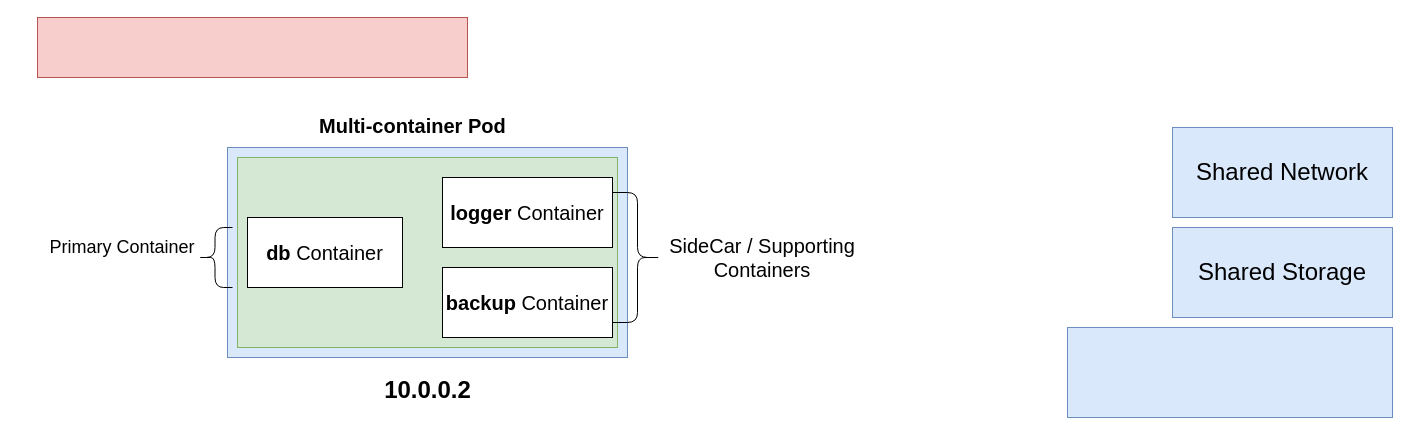
Some shapes in this 1410 by 435 pixel diagram are drawn without their labels. The centre of each missing label's shape, as x and y in pixels:
"Communicate inside through LOCALHOST:<port>" belongs at (x=1229, y=372).
"Not a Good Practice Until Needs Specifically" belongs at (x=252, y=47).
